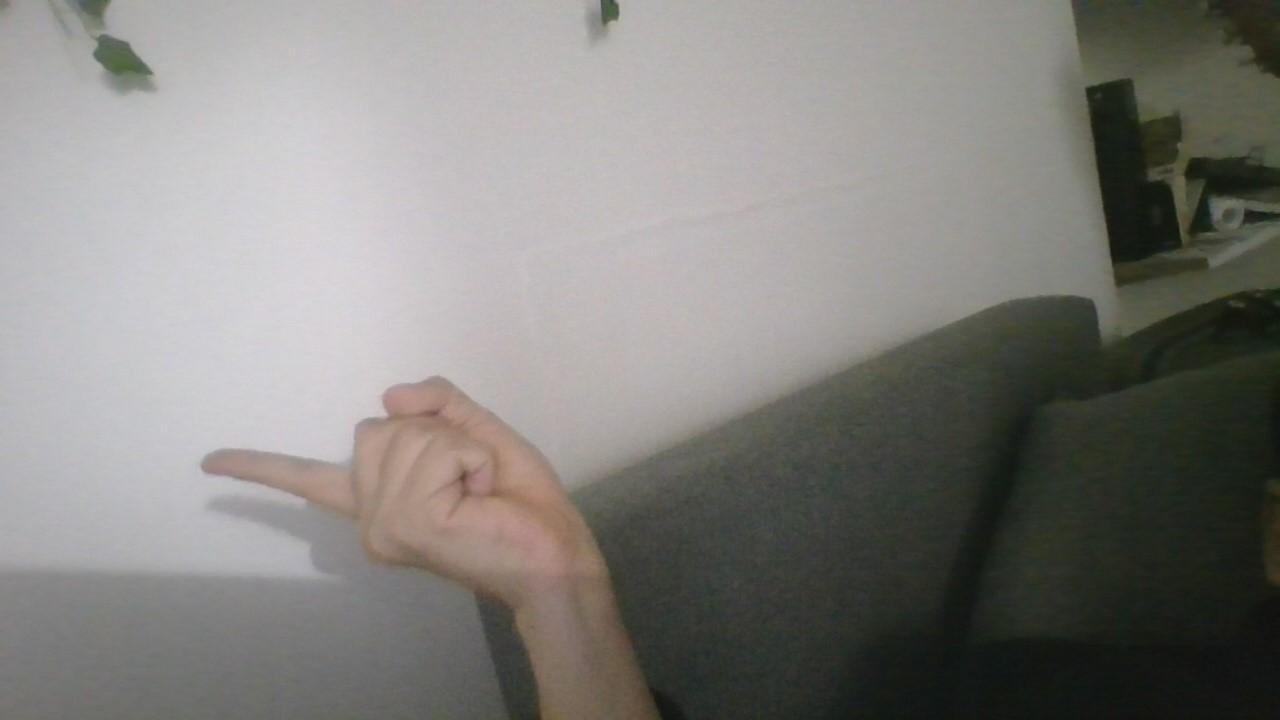left: (196, 365, 612, 610)
